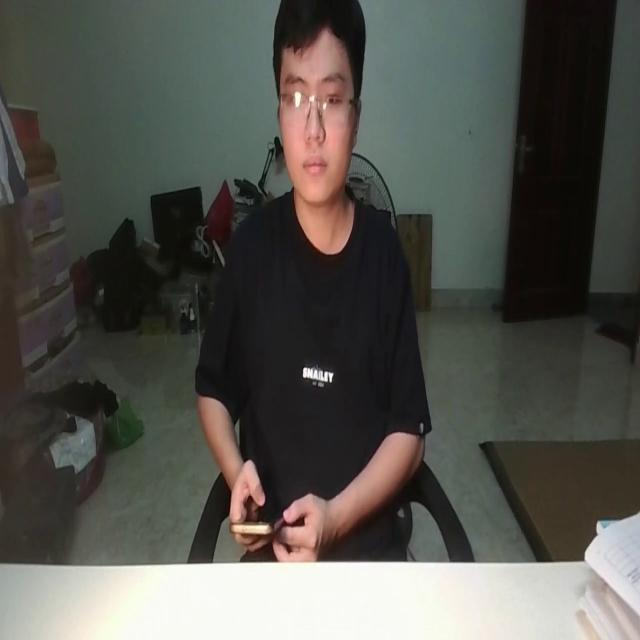phone: (225, 493, 290, 538)
student: (196, 0, 428, 555)
